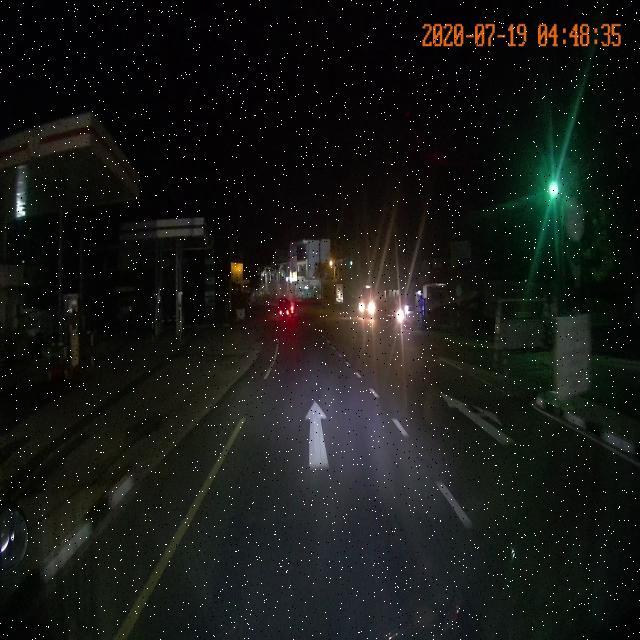forward: (193, 391, 452, 483)
